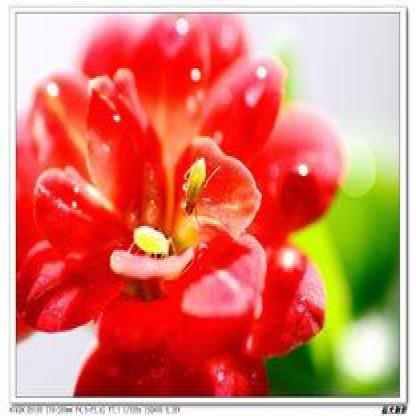aphid: (180, 149, 219, 225), (126, 218, 181, 266)
